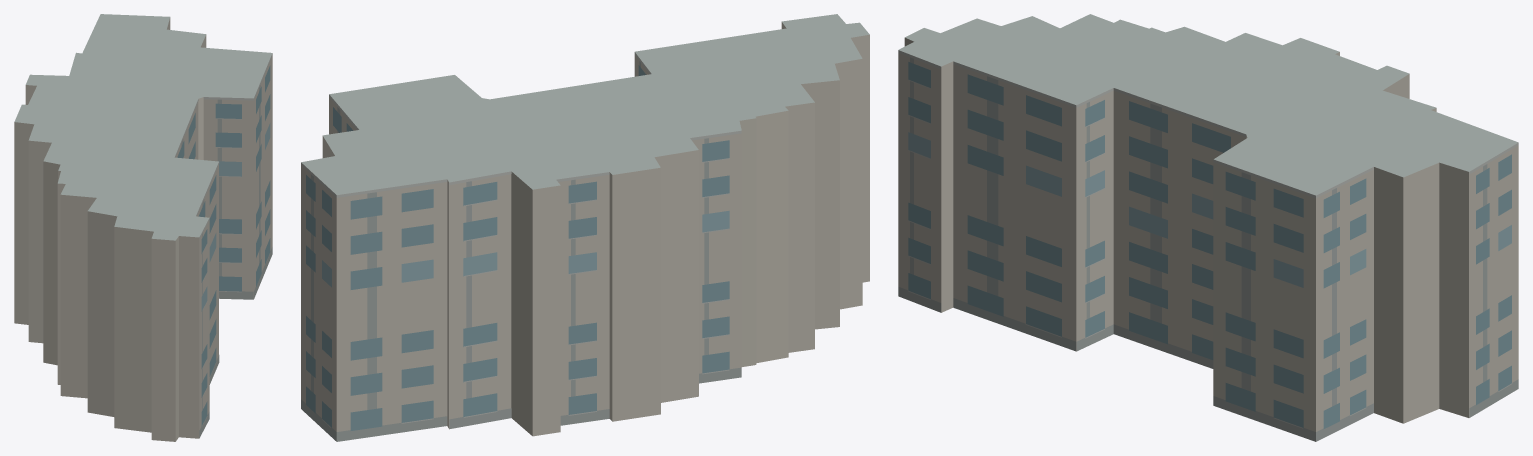
File: survey-upis-32846368.glb
3 renders of one model, left to right at view 1: azimuth 30°, elevation 25°; view 2: azimuth 150°, elevation 25°; view 3: azimuth 270°, elevation 25°, orthographic. The views are drawn at different scales.
Parts seen in each view (by area): view 1: survey-upis-32846368.tmp; view 2: survey-upis-32846368.tmp; view 3: survey-upis-32846368.tmp.
Part boxes in pixels (left/top/right/bottom): survey-upis-32846368.tmp: left=14, top=14, right=272, bottom=441; survey-upis-32846368.tmp: left=301, top=14, right=869, bottom=441; survey-upis-32846368.tmp: left=898, top=14, right=1518, bottom=441.
Size of the model in its own units: 34.8 by 22 by 50.24.
